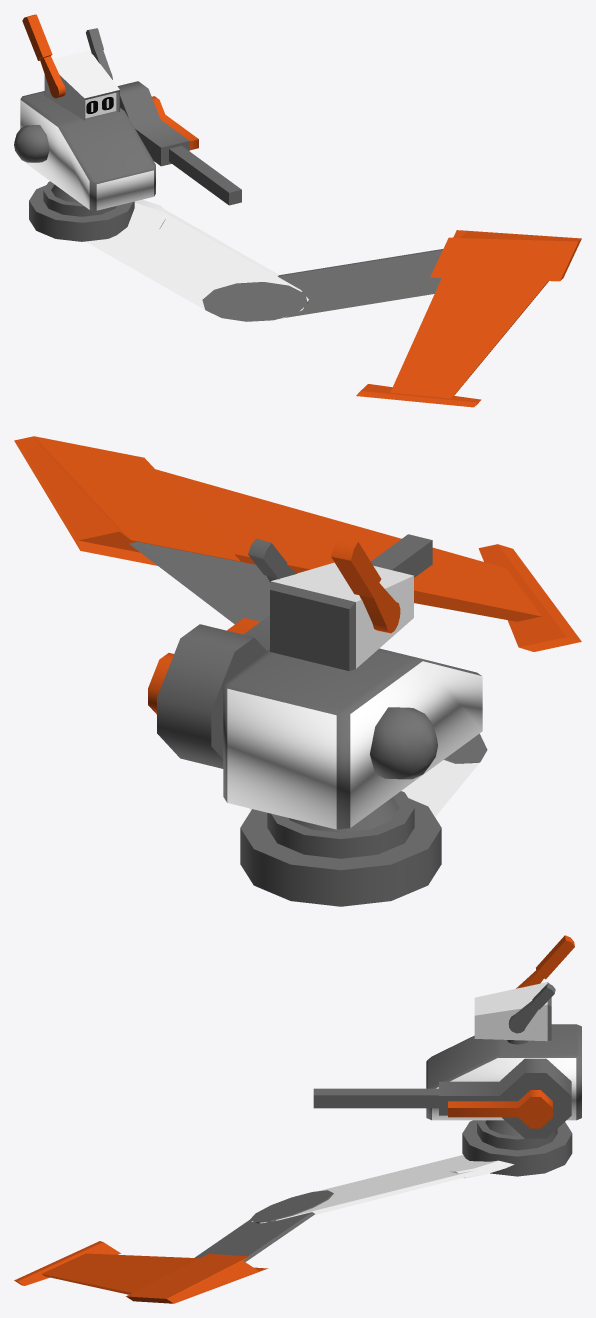
The model's file is PlayerMech.fbx.
3 renders of one model, top to bottom at view 1: azimuth 30°, elevation 25°; view 2: azimuth 150°, elevation 25°; view 3: azimuth 270°, elevation 25°, orthographic. The views are drawn at different scales.
Parts seen in each view (by area): view 1: Foot, Mech Torso, Leg_Mid, Leg, Gun, Mech Base, Barrel; view 2: Mech Torso, Foot, Mech Base, Gun, Leg_Mid, Leg, Barrel; view 3: Mech Torso, Foot, Gun, Leg, Leg_Mid, Mech Base, Barrel.
Part boxes in pixels (x1,y1,x2,y2): Foot: (356,230,581,407); Mech Torso: (14,14,155,216); Leg_Mid: (202,249,442,321); Leg: (85,199,308,321); Gun: (117,81,198,166); Mech Base: (29,185,134,241); Barrel: (169,145,241,205); Mech Torso: (223,537,482,858); Foot: (14,436,581,651); Mech Base: (240,798,441,906); Gun: (148,615,269,768); Leg_Mid: (129,542,487,763); Leg: (249,759,482,816); Barrel: (371,534,432,577); Mech Torso: (426,935,581,1150); Foot: (14,1241,268,1303); Gun: (439,1058,571,1138); Leg: (251,1155,514,1223); Leg_Mid: (194,1190,333,1261); Mech Base: (462,1120,572,1176); Barrel: (313,1088,438,1108).
Size of the model in its own units: 2891 by 3472 by 1721.
